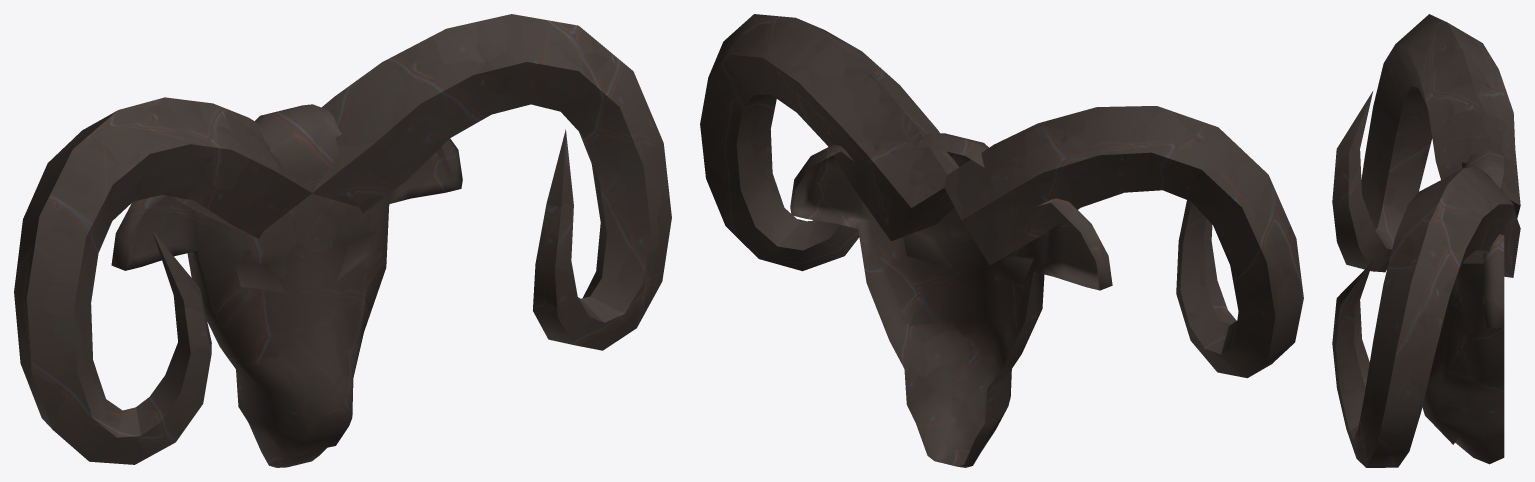
Rendered from Ram sigil.fbx.
3 renders of one model, left to right at view 1: azimuth 30°, elevation 25°; view 2: azimuth 150°, elevation 25°; view 3: azimuth 270°, elevation 25°, orthographic. The views are drawn at different scales.
Visible parts, largest first — view 1: Ram_SIgil; view 2: Ram_SIgil; view 3: Ram_SIgil.
Part boxes in pixels (x1,y1,x2,y2): Ram_SIgil: [14, 14, 671, 467]; Ram_SIgil: [700, 14, 1303, 467]; Ram_SIgil: [1332, 14, 1520, 467].
Bounding box in the file's own units: 0.8885 × 0.5587 × 0.2681.
